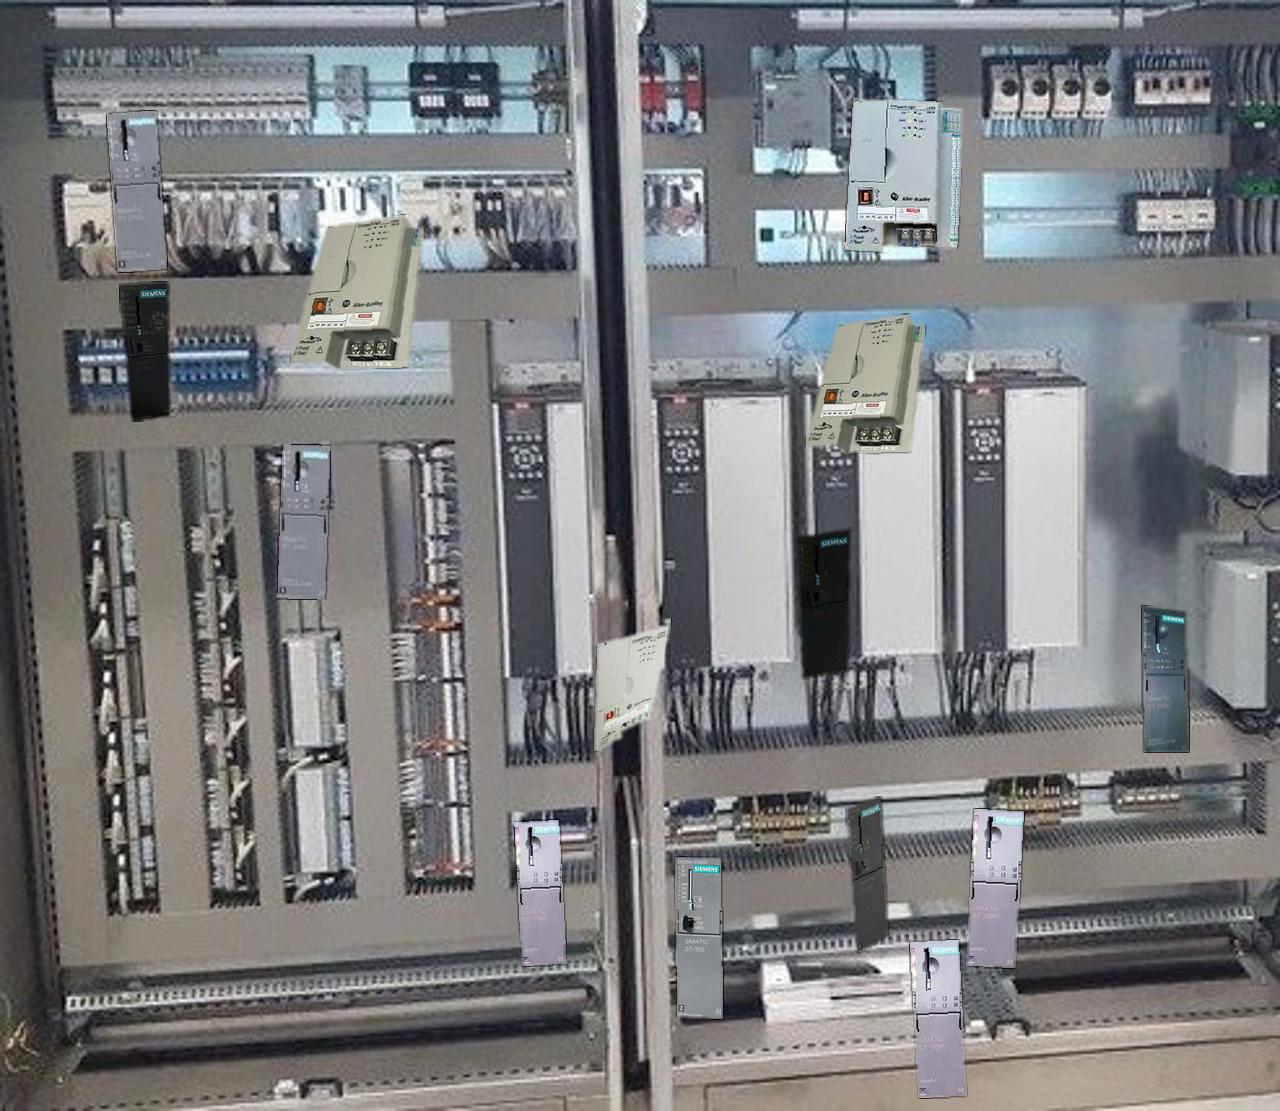AllenBradley: (291, 215, 423, 368), (845, 99, 962, 251), (807, 314, 924, 452), (595, 618, 670, 750)
Siemens: (798, 529, 850, 677), (676, 857, 722, 1019), (119, 282, 170, 420), (846, 797, 887, 953)
